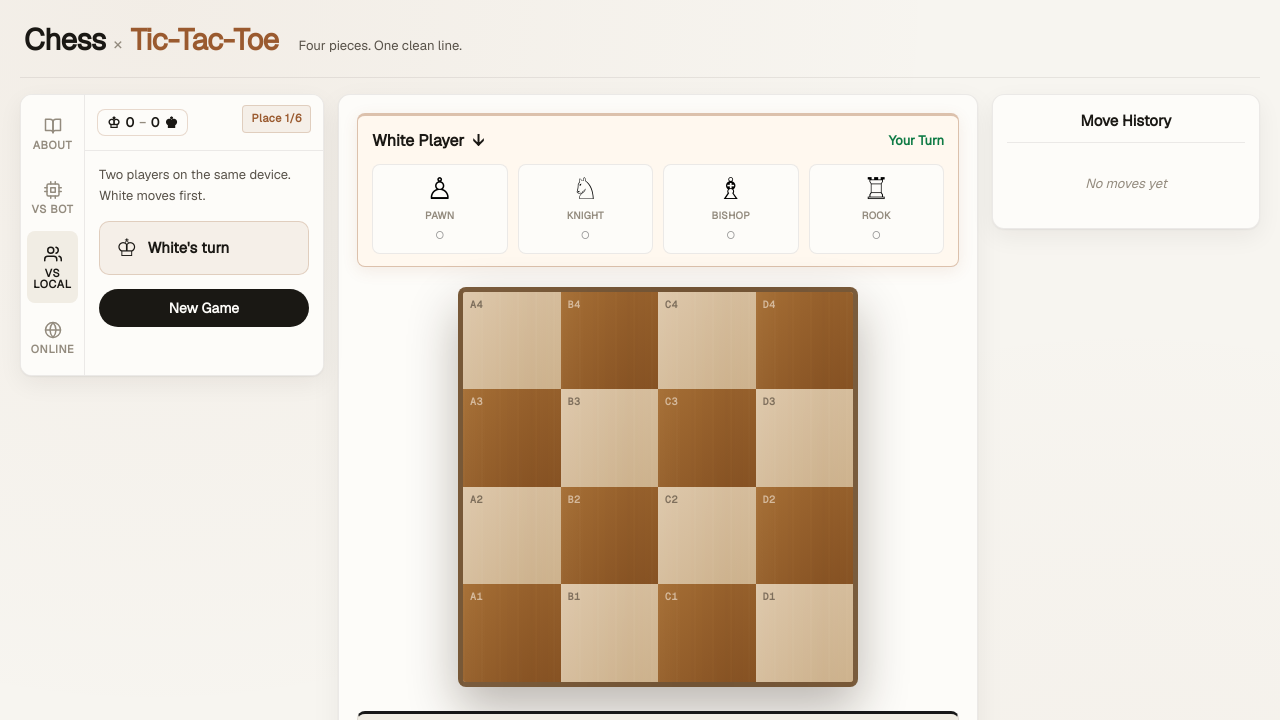
Test: Game UI › shows multiplayer room controls and validates join input
Step 1. Click the button "Online" → (52, 336), box [27, 306, 78, 366]
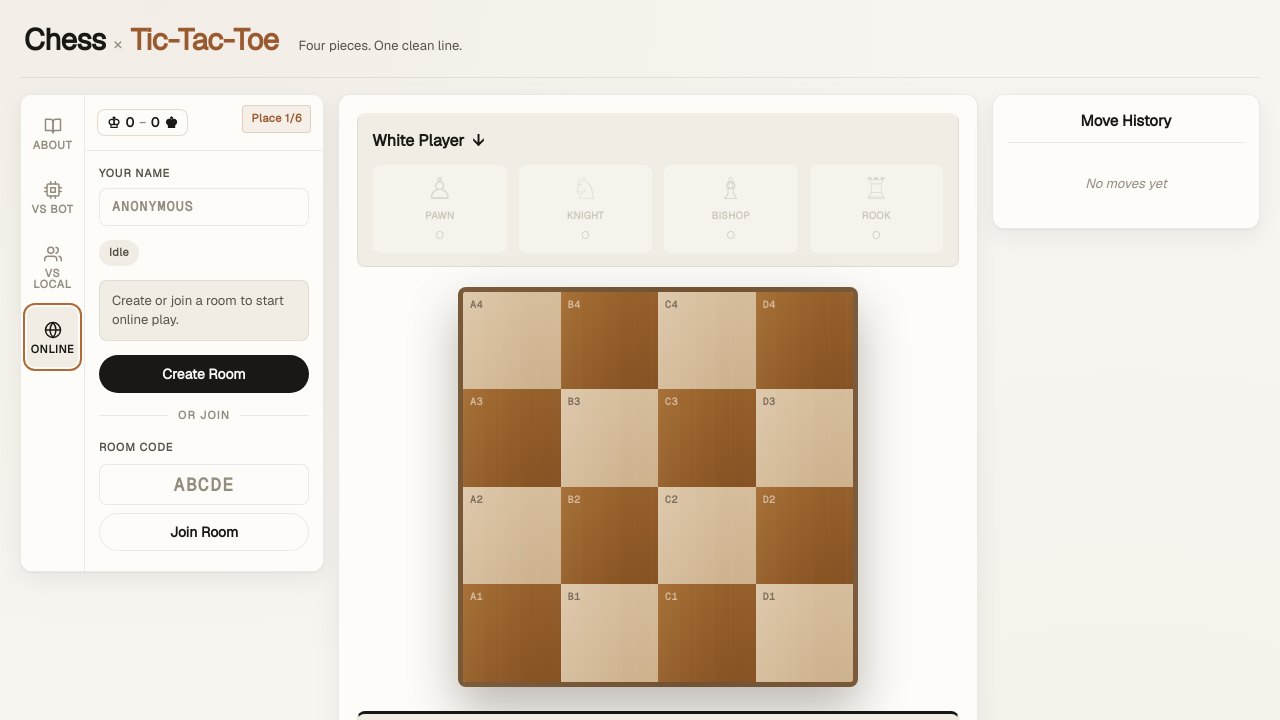
Check: the button "Create Room" is shown, box [99, 355, 309, 393]
Check: the field labelled "Room code" is shown, box [99, 464, 309, 505]
Check: the text "Create or join a room to start online play." is shown, box [99, 280, 309, 341]
Step 2. Click the button "Join Room" → (204, 532), box [99, 513, 309, 551]
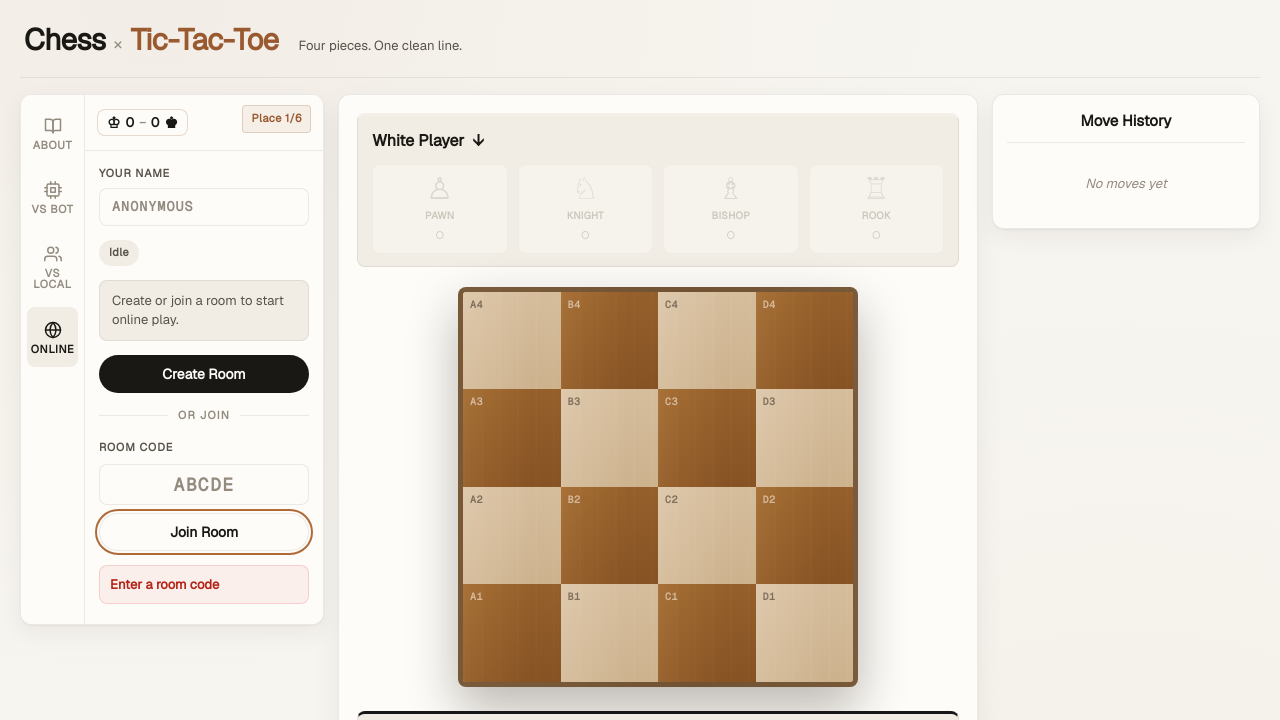
Check: the message "Enter a room code" is shown, box [99, 565, 309, 604]
